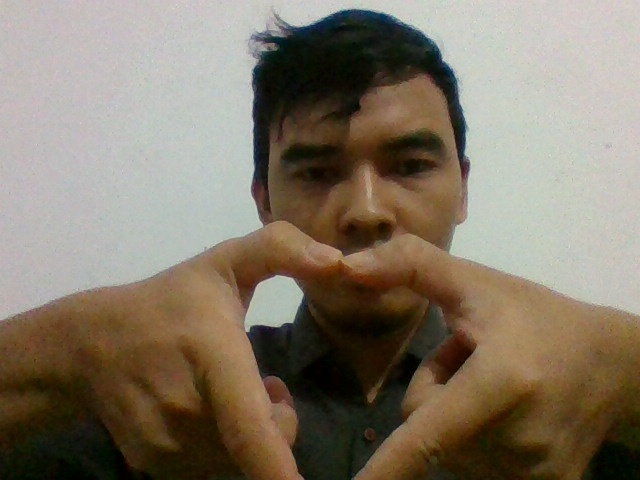iloveyou: (145, 222, 524, 480)
